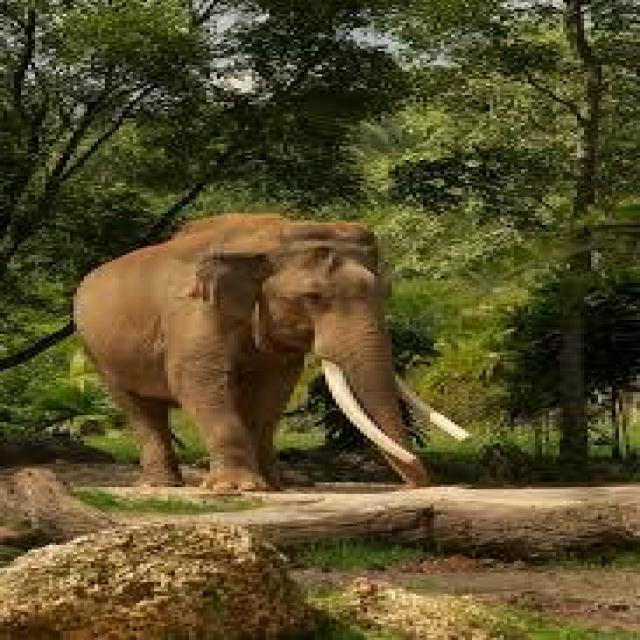Elephant: (63, 211, 451, 492)
